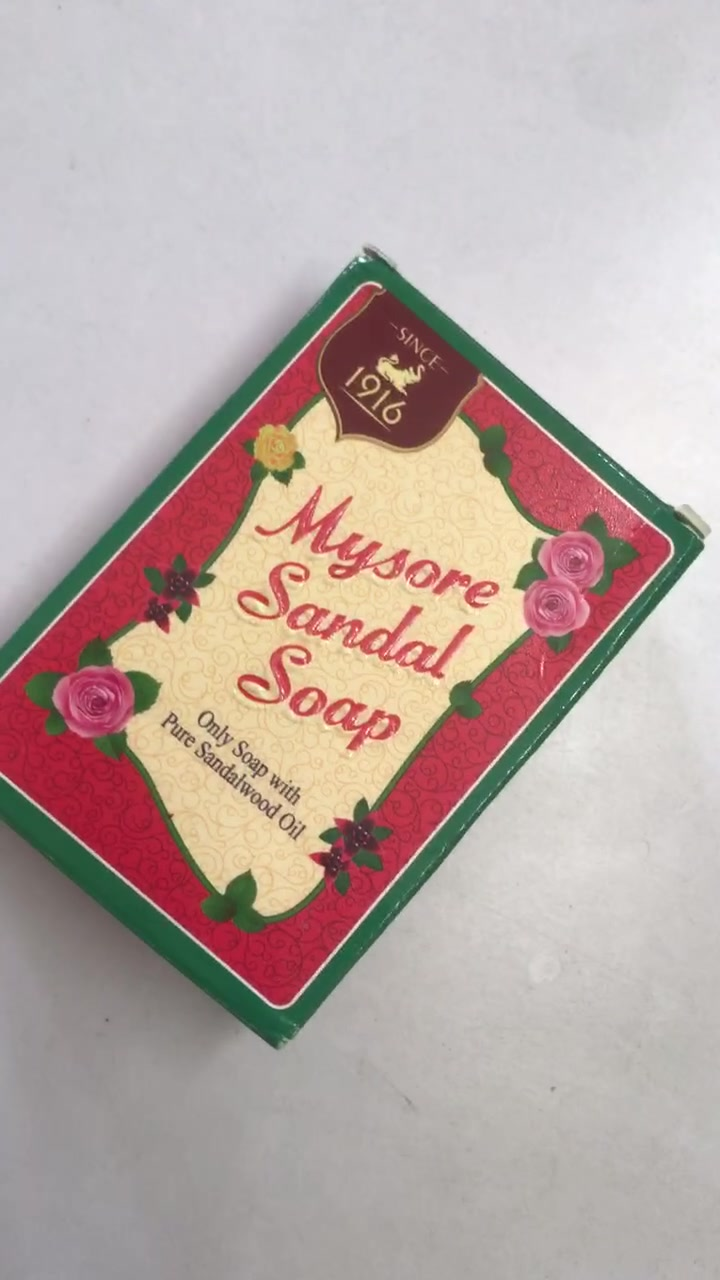mysore sandal soap: (5, 253, 702, 1043)
